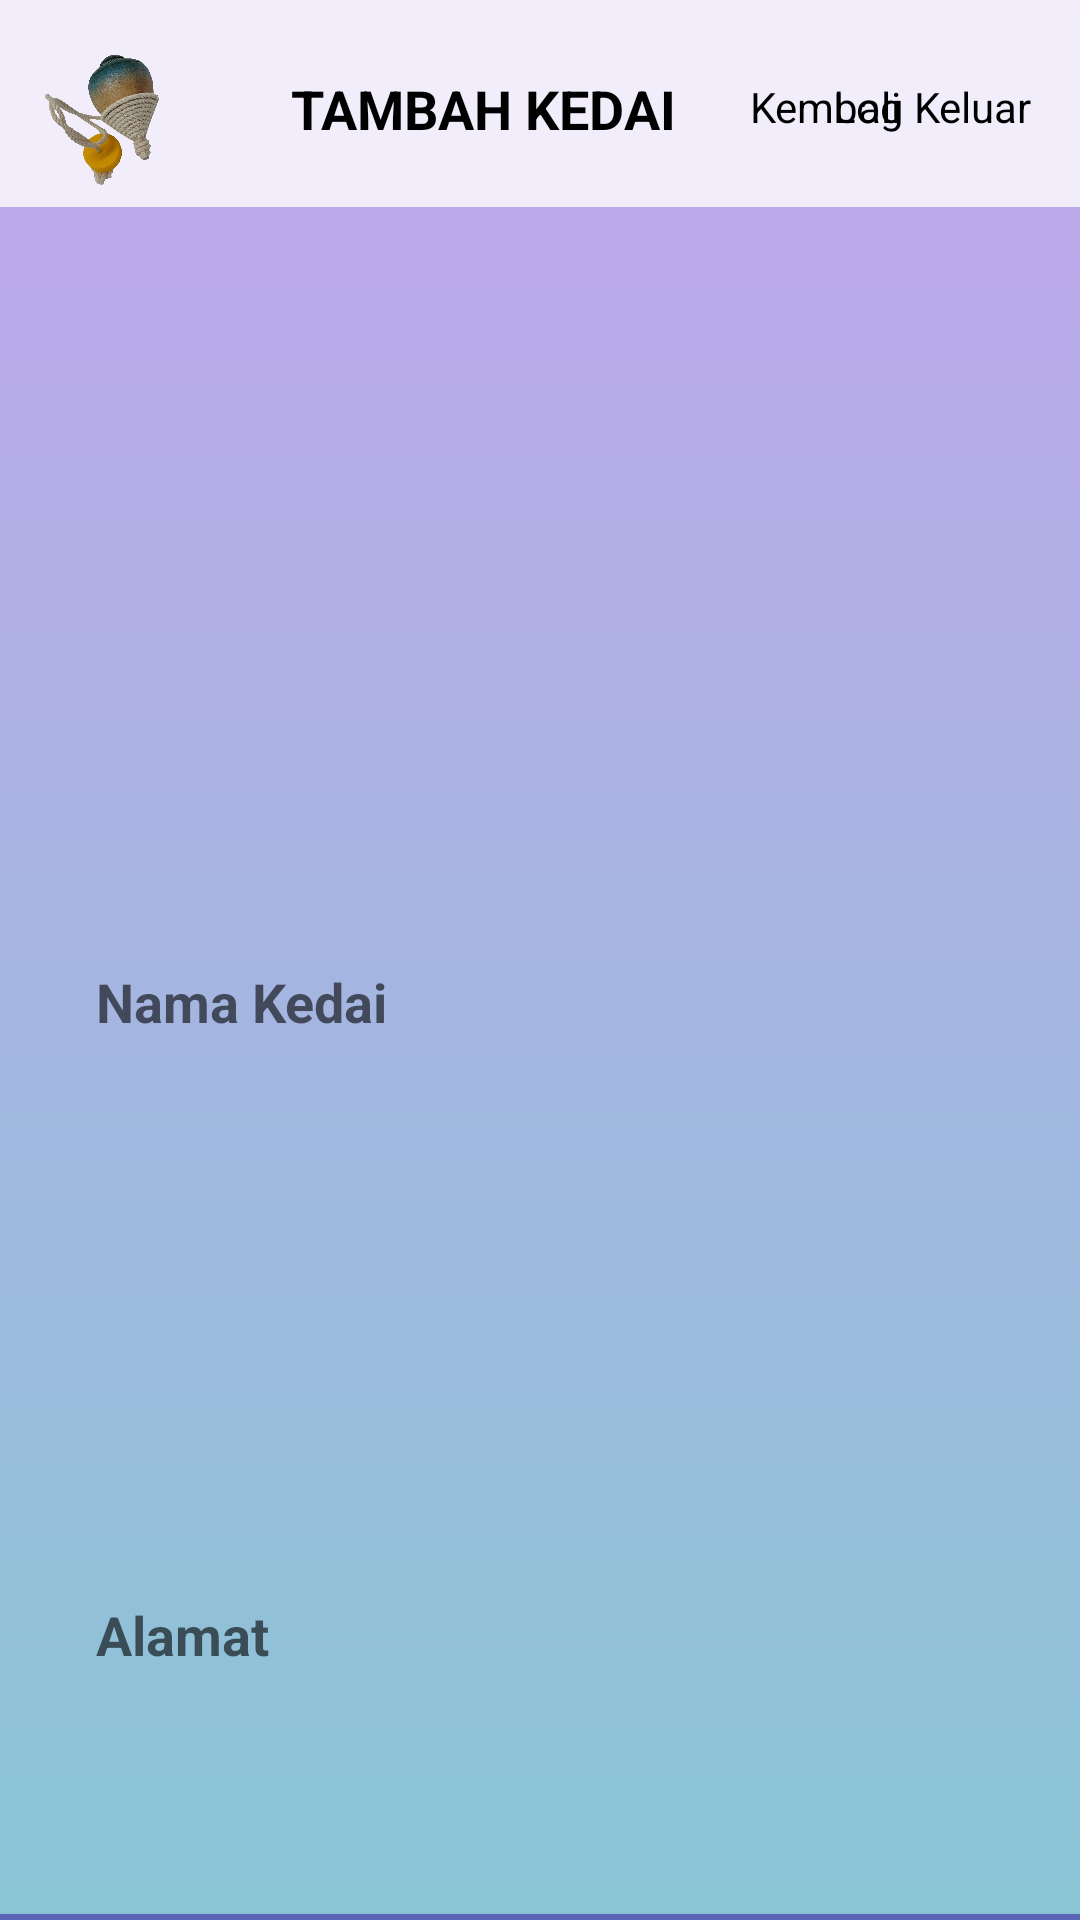

Point at icon controls on the screen. Image size 1080*1920, points as point (x, y).
gasing: point (102, 120)
